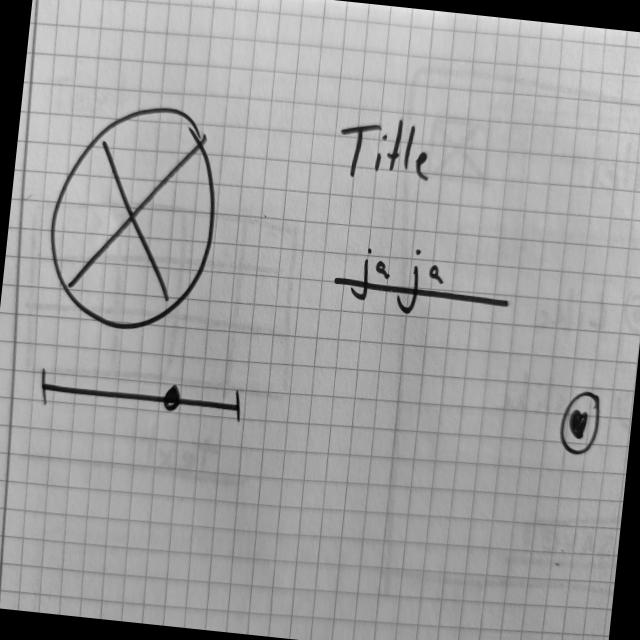icon-button: (557, 387, 605, 457)
image: (43, 94, 231, 338)
input: (328, 238, 517, 330)
label: (334, 111, 440, 193)
slider: (37, 362, 251, 428)
